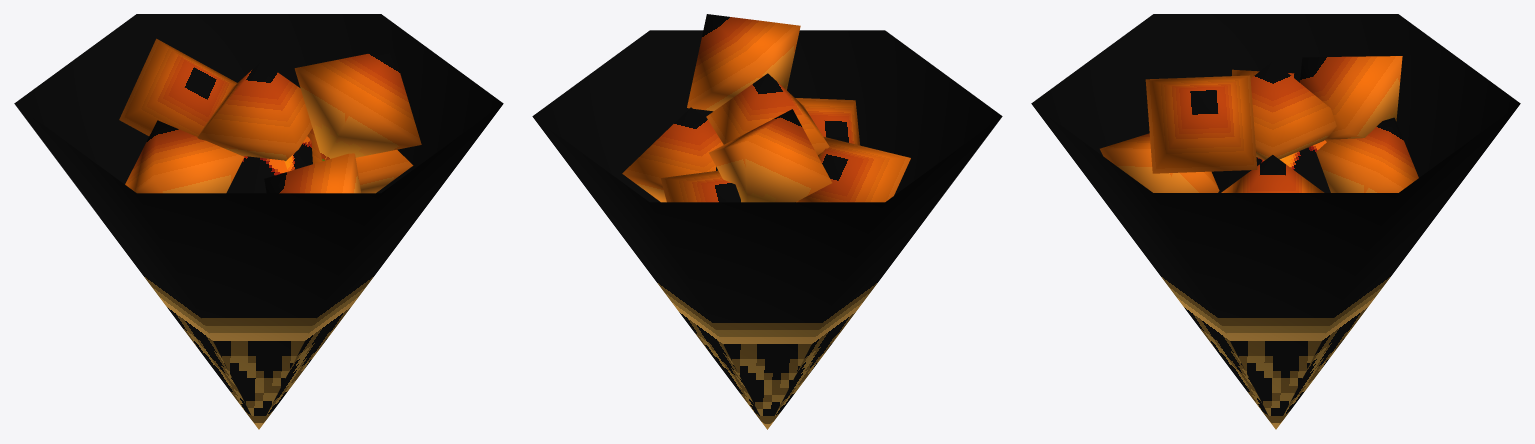
3 views of the same model, side by side, from view 1: azimuth 30°, elevation 25°; view 2: azimuth 150°, elevation 25°; view 3: azimuth 270°, elevation 25° (orthographic). The views are drawn at different scales.
Parts seen in each view (by area): view 1: 3383imig18_05; view 2: 3383imig18_05; view 3: 3383imig18_05.
Part boxes in pixels (x1,y1,x2,y2): 3383imig18_05: (14, 14, 503, 429); 3383imig18_05: (532, 14, 1002, 429); 3383imig18_05: (1031, 14, 1520, 429).
Bounding box in the file's own units: 0.7471 × 0.7449 × 0.8628.
3 materials, 3 textured.
